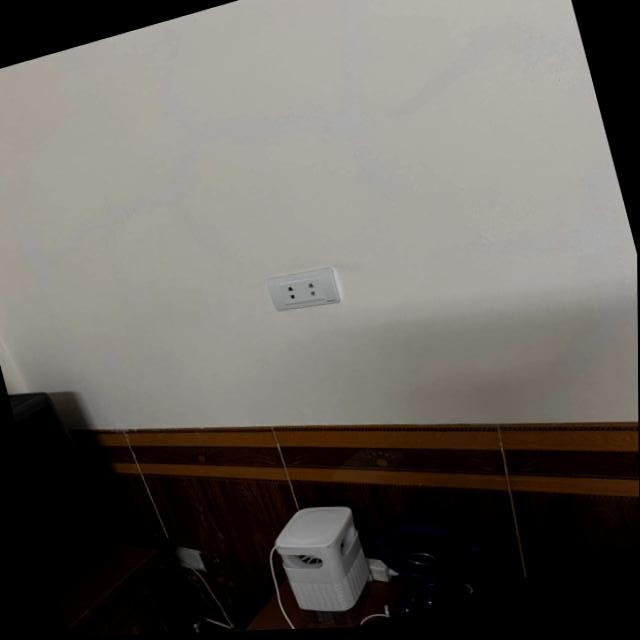outlet: (265, 262, 342, 322)
